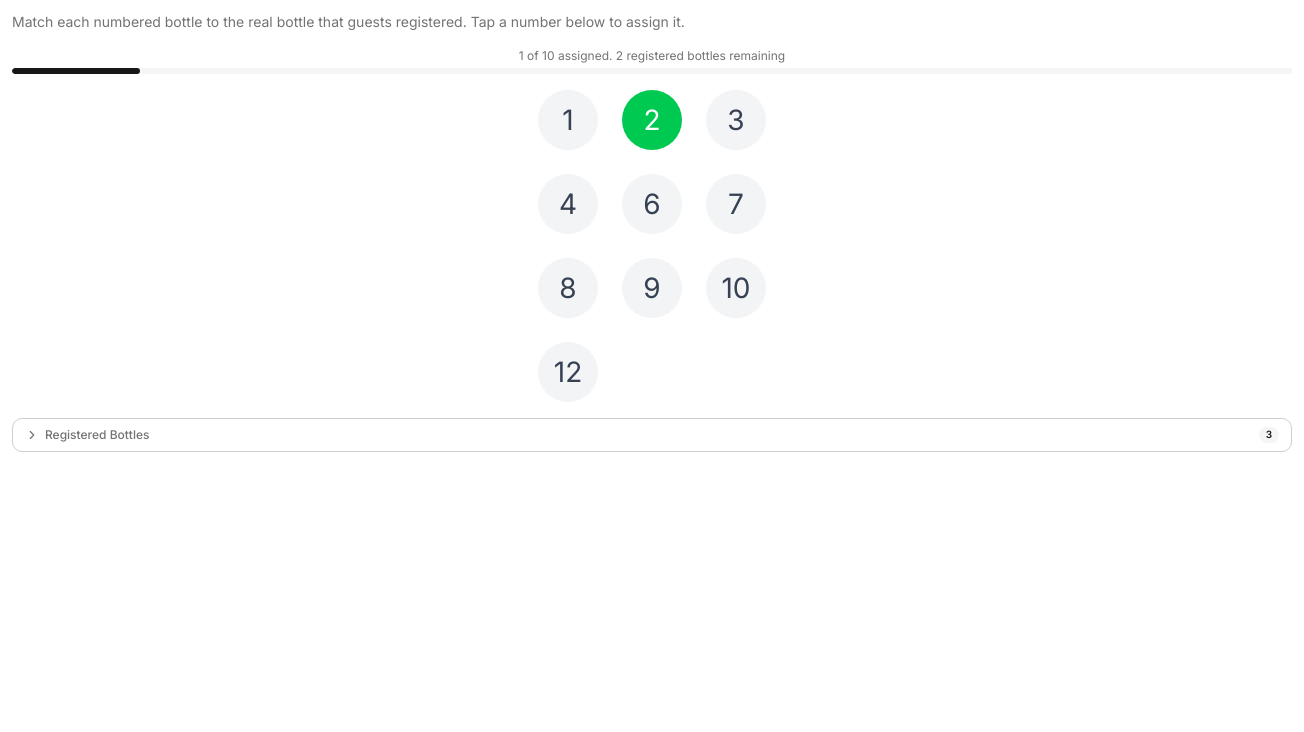
AssignmentView › US6: Registered Bottles List › expands on tap showing all bottles
Click the button with test id "registered-bottles-toggle": (77, 434) [13,419,1291,451]
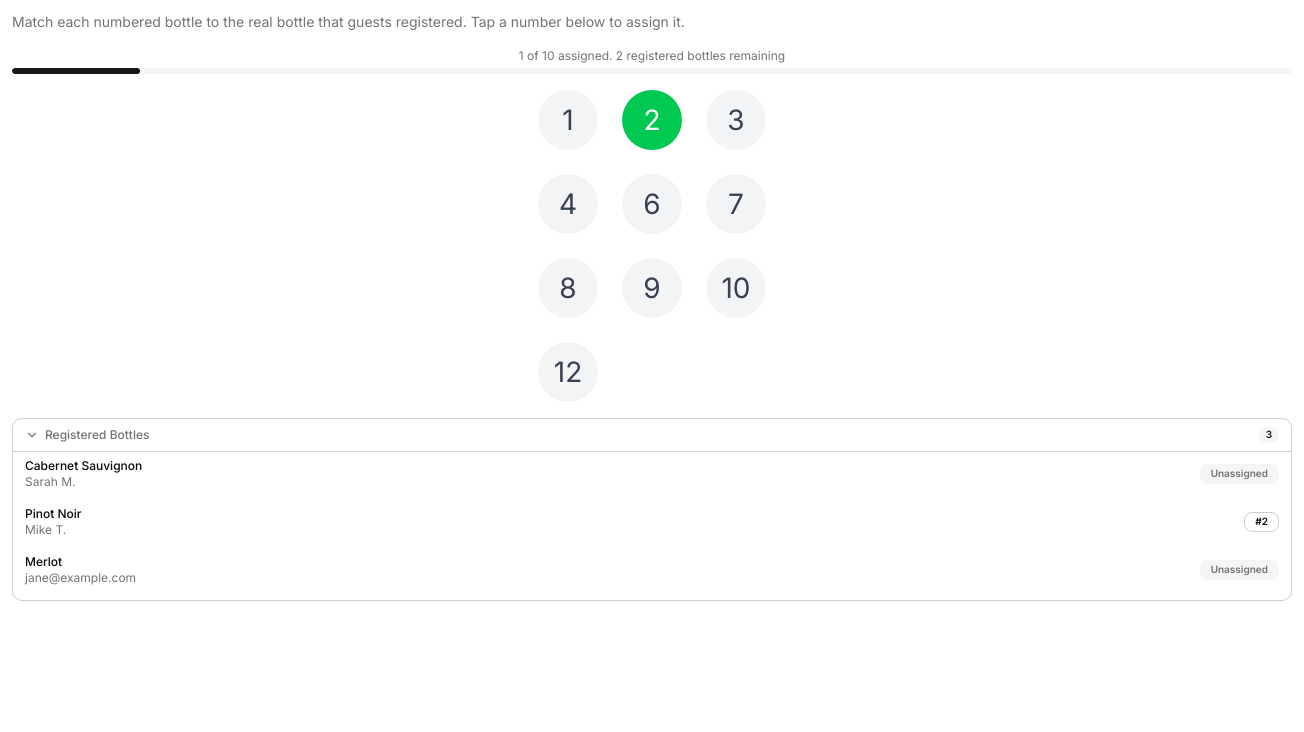
Check: the element with test id "registered-bottles-list" is shown, box [13,451,1291,600]
Check: the text "Cabernet Sauvignon" is shown, box [25,458,142,473]
Check: the text "Pinot Noir" is shown, box [25,506,82,521]
